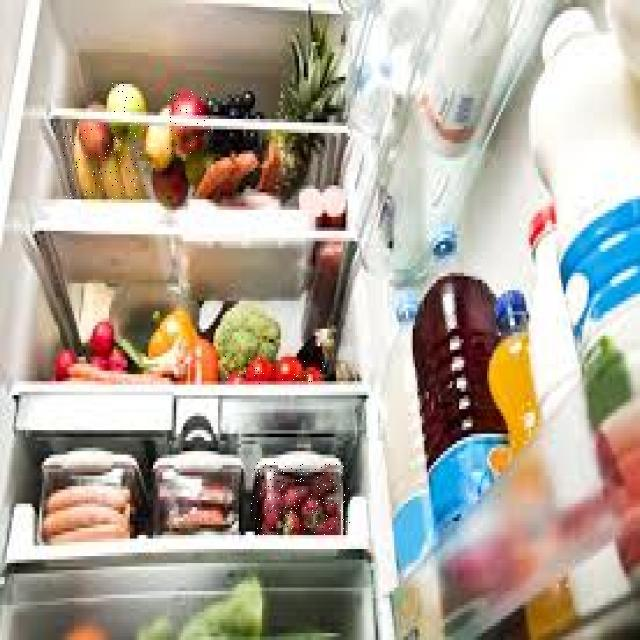apple: (167, 91, 211, 154), (111, 80, 139, 133)
banana: (60, 122, 151, 200)
strawberry: (251, 462, 350, 535)
tomatoes: (225, 356, 327, 384)
